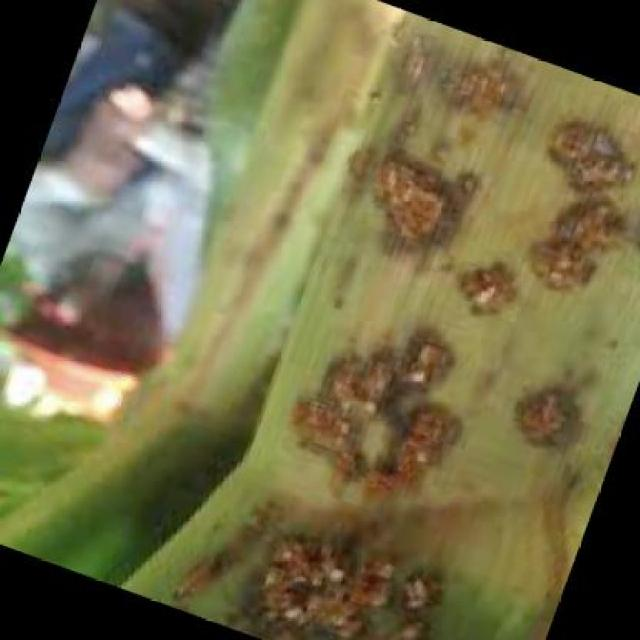Corn_Rust: (191, 65, 555, 609)
